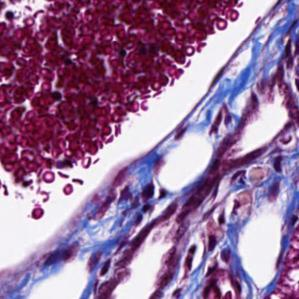inflammation: (129, 181, 168, 232), (198, 207, 235, 256), (198, 263, 247, 299)
